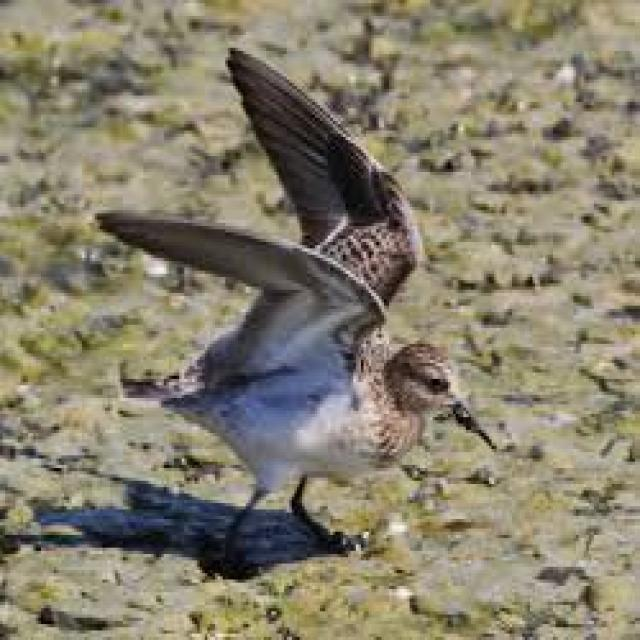Sandpiper: (106, 48, 488, 552)
